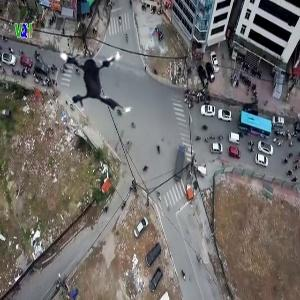drone: (48, 24, 155, 131)
